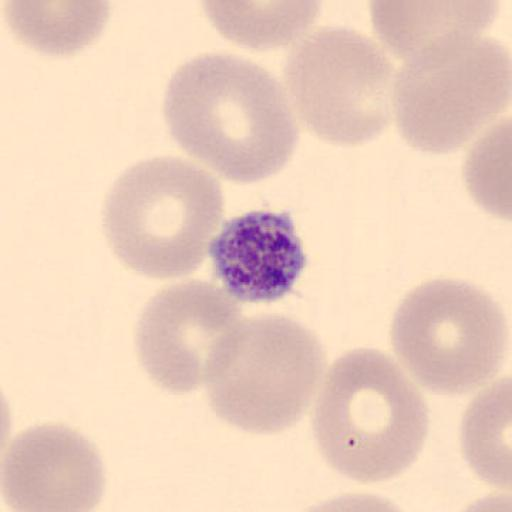Platelet: (206, 207, 312, 306)
RBC: (160, 50, 299, 186), (310, 345, 430, 486), (98, 152, 226, 282), (200, 309, 328, 437), (390, 27, 512, 155), (387, 276, 510, 397), (282, 26, 396, 149), (131, 279, 244, 397), (0, 420, 108, 511), (366, 0, 503, 68), (195, 0, 326, 52), (1, 0, 114, 58), (458, 377, 512, 488), (461, 115, 512, 222), (280, 491, 425, 512), (448, 491, 512, 512), (0, 380, 14, 469)
